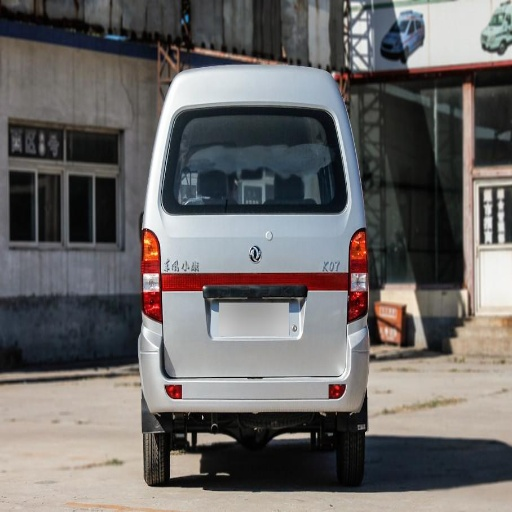back_bumper: (139, 317, 365, 412)
tailgate: (213, 213, 344, 243)
trunk: (161, 217, 353, 378)
